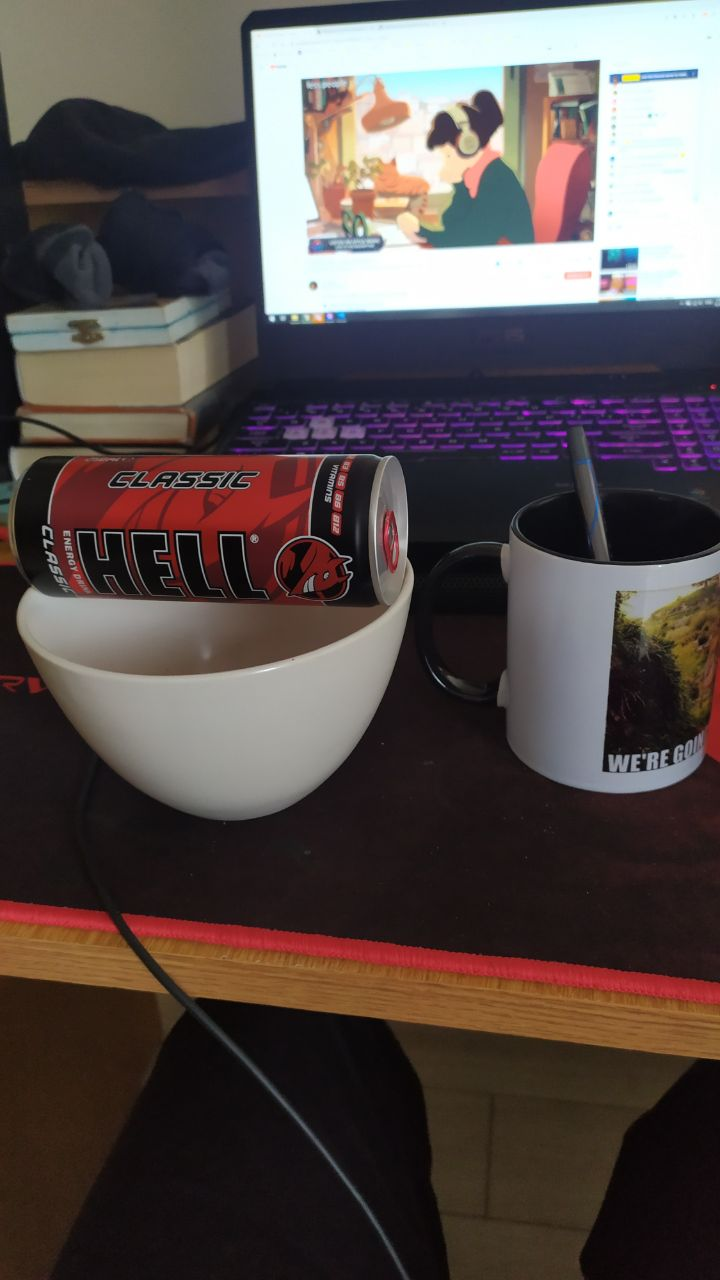Can: (3, 452, 407, 607)
